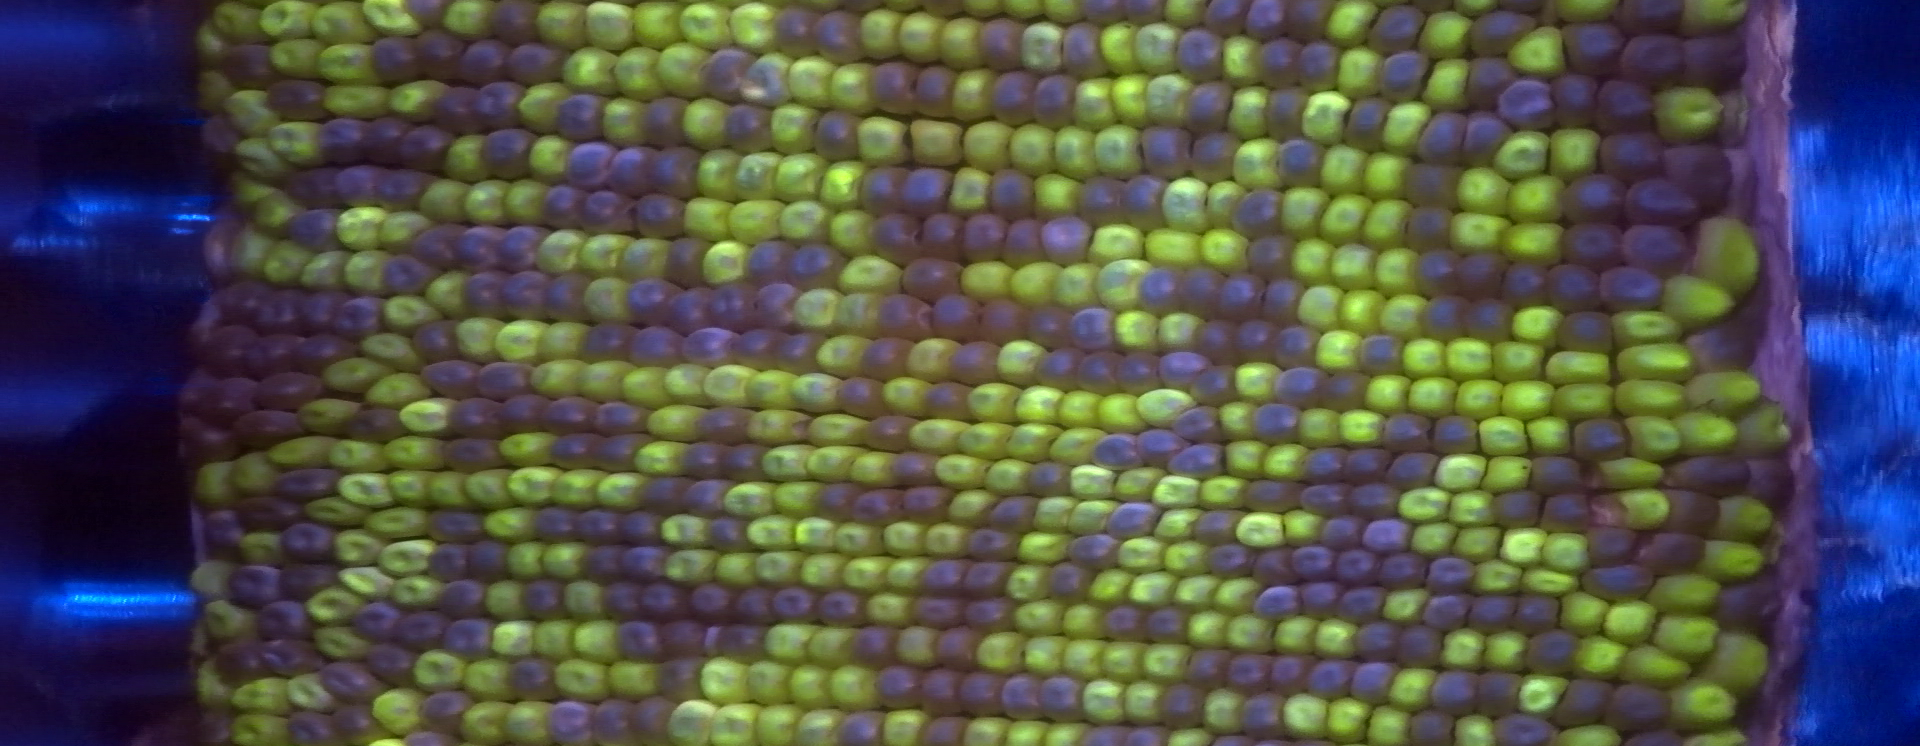fluorescent: (1700, 211, 1760, 293), (1700, 632, 1769, 695), (1656, 85, 1722, 142), (1663, 272, 1734, 323), (1693, 537, 1764, 579), (267, 120, 327, 169), (1671, 682, 1738, 726), (1507, 27, 1564, 77), (1652, 573, 1723, 612), (1716, 497, 1776, 543), (828, 61, 876, 118), (658, 43, 704, 100), (1657, 612, 1717, 657), (1100, 263, 1153, 312), (222, 91, 278, 137), (1506, 174, 1562, 220), (362, 367, 429, 407), (1419, 55, 1469, 107), (1739, 404, 1790, 454), (1144, 72, 1191, 126), (231, 136, 291, 179), (647, 398, 707, 441), (1493, 130, 1548, 176), (1690, 375, 1764, 409), (1447, 211, 1509, 252), (1418, 13, 1476, 58), (682, 98, 733, 147), (1679, 413, 1738, 456), (951, 66, 999, 119), (1511, 217, 1564, 265), (1603, 598, 1656, 646), (616, 48, 660, 104), (1305, 87, 1349, 143), (1622, 648, 1692, 684), (312, 5, 373, 45), (359, 334, 424, 372), (729, 1, 778, 51), (1335, 48, 1382, 99), (771, 99, 818, 152), (1364, 146, 1411, 198), (516, 83, 569, 129), (1162, 179, 1207, 233), (659, 548, 719, 588), (1611, 348, 1693, 377), (1457, 163, 1506, 212), (378, 538, 440, 577), (1318, 143, 1365, 194), (1559, 589, 1607, 639), (910, 337, 961, 383), (609, 659, 661, 704), (1311, 330, 1365, 374), (776, 156, 831, 198), (560, 54, 616, 96), (583, 2, 631, 51), (680, 4, 729, 51), (839, 257, 902, 294), (396, 397, 459, 434), (1382, 100, 1429, 151), (778, 203, 835, 244), (1570, 635, 1627, 675), (372, 690, 430, 730), (529, 356, 582, 401), (816, 333, 869, 376), (324, 82, 389, 118), (942, 17, 983, 72), (1608, 307, 1682, 338), (1078, 76, 1116, 136), (553, 659, 610, 699), (1319, 194, 1369, 239), (907, 418, 973, 452), (498, 431, 564, 465), (795, 548, 846, 592), (702, 365, 759, 404), (572, 361, 633, 398), (744, 408, 806, 445), (789, 54, 830, 108), (760, 443, 819, 481), (697, 241, 752, 282), (913, 119, 961, 165), (538, 1, 587, 47), (858, 119, 907, 164), (1555, 386, 1618, 421), (1233, 137, 1277, 187), (1547, 129, 1598, 171), (1090, 223, 1142, 265), (1382, 298, 1435, 339), (211, 2, 264, 43), (585, 276, 631, 323), (633, 1, 682, 45), (1616, 383, 1690, 413), (969, 379, 1018, 423), (1007, 419, 1056, 463), (467, 178, 509, 228), (1681, 1, 1749, 33), (996, 341, 1047, 382), (958, 260, 1018, 295), (1518, 674, 1571, 714), (375, 211, 432, 247), (1112, 72, 1151, 126), (1477, 416, 1531, 456), (1114, 310, 1160, 356), (893, 624, 938, 670), (898, 12, 945, 56), (322, 40, 370, 85), (1011, 127, 1056, 175), (1284, 189, 1329, 236), (1542, 527, 1589, 571), (828, 666, 876, 710), (1096, 124, 1139, 173), (1202, 685, 1245, 734), (230, 677, 291, 712), (735, 157, 785, 198), (444, 137, 495, 179), (1477, 630, 1527, 671), (1048, 428, 1107, 463), (789, 371, 841, 410), (1619, 491, 1671, 530), (571, 619, 623, 658), (1332, 243, 1378, 288), (422, 176, 469, 220), (687, 195, 733, 239), (1447, 334, 1491, 381), (1080, 679, 1127, 723), (1264, 441, 1311, 484), (1056, 126, 1093, 180), (460, 660, 514, 698), (337, 472, 394, 507), (539, 230, 588, 272), (338, 205, 387, 246), (702, 661, 751, 703), (1329, 2, 1379, 43), (827, 209, 877, 250), (1513, 304, 1564, 344), (384, 436, 446, 469), (764, 624, 819, 660), (621, 236, 672, 276), (493, 321, 545, 360), (413, 649, 464, 688), (669, 703, 720, 742), (1551, 345, 1608, 381), (538, 540, 590, 578), (749, 367, 795, 412), (1282, 693, 1327, 737), (860, 11, 902, 58), (1136, 26, 1179, 72), (969, 121, 1011, 168), (698, 156, 744, 198), (1057, 265, 1103, 307), (260, 243, 306, 285), (271, 435, 336, 465), (1035, 178, 1084, 218), (1231, 361, 1284, 398), (1294, 288, 1344, 327), (580, 235, 631, 274), (1593, 456, 1663, 484), (301, 496, 371, 524), (362, 1, 418, 37), (441, 1, 496, 37), (1102, 22, 1140, 73), (1484, 454, 1536, 492), (1397, 484, 1449, 522), (949, 169, 993, 213), (460, 318, 504, 363), (1374, 250, 1420, 292), (1442, 626, 1484, 673), (1210, 179, 1247, 232), (808, 445, 861, 481), (852, 450, 905, 486), (457, 706, 509, 742), (256, 1, 312, 36), (321, 358, 389, 386), (936, 452, 992, 486), (1629, 413, 1678, 452), (1146, 229, 1200, 265), (298, 398, 358, 430), (1523, 565, 1583, 597), (1013, 385, 1063, 423), (189, 560, 239, 598), (1233, 512, 1291, 545), (601, 99, 645, 142), (531, 136, 576, 179), (1064, 637, 1108, 680), (191, 659, 234, 703), (1122, 679, 1163, 724), (624, 363, 671, 403), (362, 507, 424, 538), (389, 81, 448, 113), (1014, 262, 1062, 301), (863, 592, 916, 627), (312, 624, 369, 657), (1442, 490, 1496, 524), (822, 168, 872, 205), (287, 674, 337, 710), (192, 461, 235, 503), (233, 450, 276, 492), (880, 551, 923, 594), (787, 665, 830, 708), (1131, 571, 1176, 612), (380, 299, 444, 327), (1233, 88, 1269, 140), (598, 477, 649, 512), (884, 375, 931, 414), (482, 579, 529, 619), (391, 579, 446, 612), (1224, 36, 1262, 83), (746, 514, 793, 552), (1472, 559, 1520, 597), (806, 625, 853, 663), (1389, 668, 1436, 706), (1138, 392, 1194, 424), (729, 202, 779, 238), (250, 194, 300, 229), (538, 322, 588, 358), (509, 465, 560, 501), (1368, 203, 1412, 244), (349, 249, 389, 293), (1022, 631, 1063, 675), (748, 659, 789, 703), (710, 710, 764, 744), (713, 548, 759, 586), (481, 510, 539, 540), (1504, 382, 1551, 419), (1117, 535, 1164, 572), (1016, 598, 1064, 635), (1226, 612, 1273, 649), (1016, 530, 1069, 563), (662, 512, 711, 548), (1273, 616, 1316, 657), (1342, 293, 1386, 332), (327, 441, 386, 470), (1343, 405, 1381, 451), (983, 630, 1021, 675), (1056, 390, 1102, 426), (1500, 527, 1548, 562), (1365, 702, 1407, 742), (724, 481, 773, 516), (551, 472, 604, 503), (339, 565, 392, 597), (1526, 416, 1570, 454), (531, 619, 576, 657), (1455, 381, 1505, 414), (1114, 470, 1164, 503), (1202, 235, 1249, 271), (664, 367, 710, 403), (1097, 392, 1144, 428), (387, 469, 435, 503), (1004, 566, 1056, 598), (509, 185, 550, 225), (1293, 240, 1333, 281), (1188, 608, 1229, 647), (425, 276, 469, 312), (1167, 538, 1211, 575), (798, 290, 834, 336), (1435, 454, 1480, 490), (469, 469, 514, 505), (504, 709, 555, 741), (1404, 337, 1444, 377), (1216, 398, 1256, 437), (1300, 407, 1340, 447), (795, 713, 849, 742), (489, 622, 536, 655), (808, 418, 869, 443), (1073, 462, 1116, 499), (949, 494, 1000, 524), (307, 590, 356, 622), (1493, 344, 1538, 379), (503, 540, 542, 579), (1162, 314, 1204, 350), (758, 546, 800, 583), (1171, 573, 1218, 605), (637, 442, 686, 473), (984, 458, 1030, 491), (776, 481, 822, 514), (333, 529, 378, 562), (1103, 643, 1142, 681), (1413, 380, 1453, 416), (1092, 565, 1129, 605), (269, 42, 316, 73), (960, 423, 1007, 454), (430, 473, 471, 508), (566, 579, 607, 615), (1386, 588, 1429, 622), (228, 718, 288, 742), (240, 530, 284, 563), (1226, 440, 1262, 479), (927, 524, 966, 561), (1329, 702, 1365, 741), (201, 599, 241, 635), (1284, 508, 1326, 543), (1157, 508, 1204, 539), (964, 710, 1010, 741), (757, 712, 803, 742), (1146, 647, 1189, 680), (227, 171, 271, 203), (1460, 527, 1504, 559), (1071, 503, 1116, 535), (796, 514, 834, 551), (1198, 479, 1243, 510), (1547, 2, 1615, 22), (1369, 379, 1411, 410), (846, 557, 888, 589), (310, 247, 345, 284), (1318, 624, 1356, 658), (1153, 473, 1198, 502), (885, 521, 926, 552), (1063, 604, 1103, 636), (836, 521, 878, 551), (884, 712, 928, 740), (1453, 713, 1494, 744), (1413, 524, 1456, 552), (1032, 499, 1074, 527), (200, 72, 231, 109), (1220, 579, 1258, 609), (1007, 720, 1048, 744), (193, 24, 223, 54), (1560, 729, 1618, 744), (1044, 1, 1085, 21), (1044, 726, 1090, 744), (1173, 723, 1212, 742), (1163, 2, 1204, 20)
nonfluorescent: (1656, 140, 1730, 207), (1716, 573, 1787, 636), (1624, 180, 1706, 234), (1665, 450, 1755, 499), (1618, 32, 1689, 93), (1622, 222, 1695, 279), (1558, 20, 1627, 77), (236, 402, 307, 458), (1687, 322, 1760, 375), (1605, 677, 1678, 730), (1637, 529, 1716, 577), (1589, 80, 1659, 132), (1682, 31, 1749, 86), (1594, 130, 1667, 179), (1562, 169, 1625, 224), (1597, 262, 1667, 311), (1466, 10, 1533, 60), (414, 24, 470, 85), (1056, 18, 1111, 78), (1560, 220, 1627, 269), (474, 76, 527, 138), (576, 314, 638, 366), (1524, 630, 1588, 681), (1720, 152, 1766, 224), (629, 192, 694, 243), (408, 217, 464, 273), (901, 164, 956, 222), (1229, 185, 1284, 243), (1550, 673, 1609, 726), (1141, 125, 1194, 185), (650, 142, 703, 202), (577, 187, 640, 236), (255, 367, 329, 409), (560, 142, 617, 196), (869, 211, 927, 265), (973, 18, 1026, 77), (1174, 24, 1222, 88), (1499, 78, 1555, 132), (765, 1, 818, 59), (370, 162, 429, 213), (1576, 563, 1656, 601), (1243, 235, 1304, 284), (691, 405, 760, 448), (1122, 170, 1169, 233), (1041, 216, 1096, 269), (238, 489, 305, 533), (1429, 665, 1484, 719), (403, 120, 456, 176), (1550, 261, 1607, 314), (1474, 666, 1531, 719), (1382, 47, 1433, 105), (293, 330, 358, 375), (1164, 436, 1229, 481), (869, 61, 918, 121), (1402, 160, 1462, 209), (489, 125, 538, 185), (993, 67, 1040, 130), (1310, 370, 1380, 412), (1456, 249, 1510, 303), (1417, 247, 1469, 303), (460, 269, 512, 326), (1461, 111, 1511, 169), (504, 267, 555, 325), (1572, 416, 1636, 462), (999, 216, 1048, 274), (1067, 307, 1125, 356), (878, 296, 937, 345), (392, 605, 451, 654), (1397, 202, 1457, 250), (444, 398, 509, 442), (808, 10, 862, 62), (1190, 134, 1247, 184), (986, 164, 1036, 220), (973, 295, 1030, 345), (220, 43, 278, 92), (888, 448, 948, 495), (266, 81, 331, 124), (902, 257, 964, 303), (1618, 1, 1686, 42), (871, 661, 926, 712), (1185, 78, 1234, 135), (791, 243, 849, 290), (1749, 454, 1796, 512), (421, 502, 489, 543), (830, 374, 890, 419), (200, 371, 260, 416), (501, 654, 561, 699), (1464, 58, 1517, 109), (711, 281, 762, 334), (917, 664, 967, 718), (443, 436, 508, 478), (553, 96, 609, 145), (1249, 541, 1304, 590), (1079, 173, 1127, 229), (469, 363, 538, 402), (1180, 265, 1226, 323), (705, 43, 749, 103), (1500, 261, 1550, 314), (496, 223, 546, 276), (1217, 271, 1267, 323), (1026, 303, 1076, 355), (629, 276, 682, 326), (544, 269, 593, 323), (1370, 5, 1427, 51), (504, 43, 567, 85), (283, 165, 342, 209), (315, 663, 381, 702), (1278, 140, 1330, 190), (371, 33, 425, 81), (922, 209, 970, 263), (1139, 262, 1187, 316), (260, 284, 307, 338), (1116, 348, 1163, 402), (201, 505, 249, 559), (636, 578, 696, 621), (1418, 108, 1464, 163), (960, 665, 1007, 720), (1238, 692, 1294, 737), (913, 60, 955, 121), (590, 396, 651, 437), (343, 404, 408, 443), (204, 317, 249, 375), (545, 393, 602, 437), (1262, 85, 1303, 147), (677, 328, 740, 369), (628, 695, 678, 745), (367, 111, 410, 170), (217, 641, 276, 684), (605, 146, 653, 198), (288, 207, 340, 255), (249, 330, 296, 382), (463, 534, 511, 587), (200, 217, 238, 283), (1035, 69, 1076, 129), (487, 1, 542, 47), (1513, 590, 1569, 636), (590, 691, 636, 746), (1190, 502, 1247, 546), (907, 590, 969, 631), (1354, 516, 1412, 559), (1190, 320, 1240, 369), (732, 323, 782, 372), (617, 503, 667, 552), (318, 118, 371, 164), (332, 295, 384, 342), (610, 617, 662, 664), (1157, 680, 1204, 733), (1424, 555, 1483, 597), (1463, 593, 1522, 635), (255, 600, 313, 642), (437, 85, 482, 138), (860, 164, 905, 218), (757, 281, 802, 334), (1329, 548, 1382, 593), (227, 563, 280, 609), (1562, 311, 1618, 355), (1153, 349, 1209, 393), (655, 660, 710, 704), (655, 616, 710, 660), (276, 519, 336, 560), (1524, 461, 1588, 499), (1102, 503, 1166, 541), (1558, 71, 1600, 127), (1090, 431, 1146, 474), (647, 102, 696, 151), (1033, 673, 1082, 722), (662, 236, 710, 287), (744, 243, 795, 290), (933, 295, 981, 345), (574, 505, 624, 552), (1378, 549, 1428, 597), (1348, 94, 1390, 152), (550, 432, 607, 474), (1413, 295, 1464, 342), (1078, 345, 1124, 397), (1349, 619, 1401, 665), (269, 469, 342, 502), (1434, 412, 1487, 457), (180, 421, 239, 462), (1250, 584, 1310, 624), (967, 523, 1024, 565), (331, 702, 387, 744), (458, 36, 504, 86), (300, 285, 347, 336), (544, 699, 594, 746), (774, 333, 825, 379), (1670, 491, 1722, 537), (1266, 650, 1318, 696), (820, 111, 864, 164), (1277, 328, 1330, 372), (1347, 658, 1400, 702), (947, 345, 1000, 388), (1382, 450, 1436, 492), (811, 587, 864, 630), (998, 668, 1041, 722), (1404, 703, 1458, 746), (576, 546, 634, 586), (1307, 654, 1356, 701), (1195, 1, 1251, 42), (276, 557, 332, 598), (410, 318, 460, 364), (369, 647, 419, 692), (256, 639, 324, 673), (442, 615, 493, 659), (384, 254, 437, 296), (1222, 650, 1275, 693), (1258, 37, 1299, 91), (913, 556, 969, 597), (729, 107, 775, 154), (336, 162, 382, 209), (1236, 322, 1282, 370), (1032, 345, 1080, 392), (722, 439, 770, 485), (1464, 296, 1513, 342), (638, 472, 683, 521), (460, 222, 504, 272), (1259, 278, 1303, 328), (1364, 336, 1414, 380), (422, 353, 473, 397), (420, 691, 470, 735), (1300, 42, 1343, 93), (540, 183, 583, 234), (1299, 481, 1352, 523), (354, 601, 400, 648), (862, 336, 910, 381), (503, 391, 549, 439), (680, 472, 727, 517), (1398, 627, 1446, 673), (966, 213, 1010, 262), (220, 278, 276, 317), (1347, 480, 1402, 519), (1584, 528, 1633, 572), (1419, 590, 1468, 635), (1250, 401, 1300, 443), (598, 431, 648, 474), (1382, 413, 1434, 454), (519, 578, 571, 620), (1242, 478, 1299, 514), (1275, 365, 1320, 412), (1141, 425, 1187, 472), (623, 543, 670, 588), (1185, 643, 1229, 691), (531, 505, 582, 546), (915, 710, 973, 746), (1490, 713, 1553, 746), (432, 579, 485, 619), (931, 628, 983, 668), (1342, 446, 1390, 489), (964, 562, 1011, 605), (898, 485, 951, 523), (1063, 533, 1120, 568), (1540, 495, 1589, 537), (1491, 488, 1540, 529), (868, 414, 918, 454), (1294, 446, 1349, 483), (670, 285, 711, 333), (926, 382, 973, 424), (1102, 601, 1150, 643), (770, 586, 818, 627), (732, 582, 774, 630), (1191, 365, 1240, 405), (1171, 405, 1224, 442), (204, 111, 239, 168), (1243, 1, 1291, 42), (692, 579, 740, 620), (1340, 584, 1389, 624), (819, 478, 862, 522), (422, 540, 467, 583), (1287, 1, 1329, 47), (1145, 604, 1189, 646), (853, 489, 899, 529), (1294, 541, 1340, 582), (987, 495, 1036, 532), (404, 1, 460, 33), (602, 579, 644, 622), (833, 710, 883, 746), (1297, 582, 1341, 622), (722, 620, 763, 664), (856, 624, 896, 668), (637, 326, 682, 365), (285, 707, 331, 746), (1025, 461, 1071, 499), (964, 598, 1011, 635), (1209, 541, 1250, 583), (1049, 563, 1092, 601), (684, 443, 726, 481), (191, 301, 213, 371), (1320, 518, 1367, 550), (197, 708, 235, 746), (710, 517, 749, 552), (1117, 1, 1169, 27), (1620, 725, 1682, 746), (176, 376, 207, 416), (403, 724, 456, 746), (1085, 1, 1130, 26), (1082, 722, 1127, 746), (1122, 723, 1166, 746)
